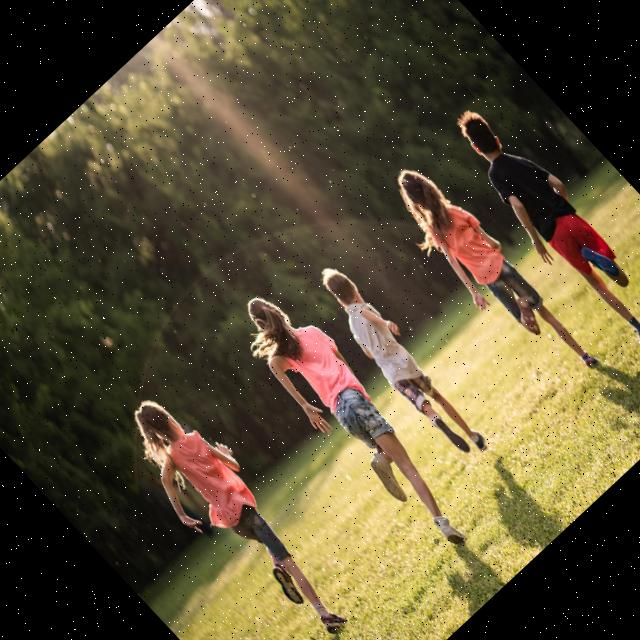Person: (220, 277, 494, 563), (104, 379, 373, 640), (375, 154, 607, 398), (432, 96, 640, 356), (303, 258, 502, 468)
